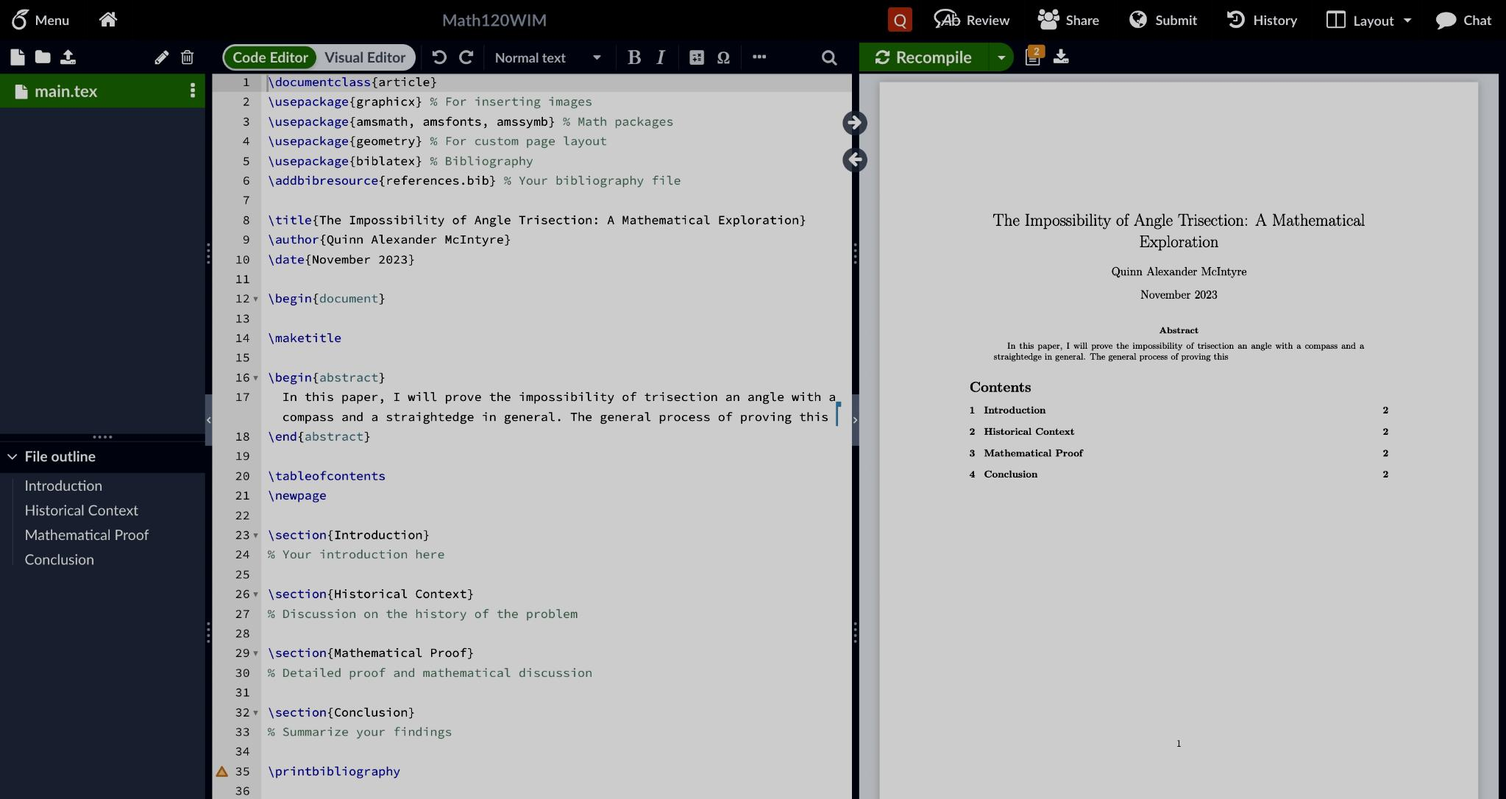webelement: (0, 40, 1505, 798), (261, 68, 852, 799), (879, 81, 1478, 799), (0, 73, 204, 433), (0, 0, 1505, 40), (859, 40, 1498, 73), (0, 472, 198, 570), (0, 73, 204, 107), (0, 440, 204, 470), (992, 211, 1361, 227), (267, 664, 591, 680), (0, 496, 198, 521), (0, 521, 198, 546), (267, 604, 576, 620), (0, 472, 198, 496), (0, 546, 198, 570), (435, 0, 553, 38), (1311, 0, 1420, 38), (920, 0, 1023, 38), (1212, 0, 1312, 38), (858, 42, 988, 71), (1113, 0, 1210, 38), (1024, 0, 1113, 38), (0, 0, 84, 38), (1421, 0, 1505, 38), (267, 722, 451, 739), (429, 132, 606, 149), (503, 171, 680, 188), (1008, 341, 1364, 349), (267, 546, 444, 562), (488, 45, 611, 68), (429, 93, 591, 109), (18, 472, 107, 496), (316, 46, 413, 68), (267, 762, 400, 778), (993, 352, 1228, 361), (224, 46, 316, 68), (267, 466, 385, 483), (17, 546, 99, 570), (267, 171, 377, 188), (84, 0, 132, 38), (562, 112, 672, 128), (267, 73, 370, 89), (429, 152, 532, 168), (1111, 264, 1245, 276), (896, 47, 972, 67), (267, 132, 348, 149), (267, 93, 348, 109), (267, 112, 348, 128), (267, 152, 348, 168), (1139, 233, 1218, 249), (34, 81, 97, 100), (267, 330, 341, 346), (267, 486, 326, 503), (267, 644, 326, 661), (304, 428, 363, 444), (267, 525, 326, 541), (267, 585, 326, 601), (267, 703, 326, 719), (319, 289, 377, 305), (319, 369, 377, 385), (494, 50, 565, 63), (984, 426, 1073, 436), (984, 448, 1082, 457), (1254, 9, 1297, 29), (969, 380, 1030, 394), (967, 9, 1009, 29), (1155, 9, 1197, 29), (1140, 288, 1216, 299), (1353, 9, 1394, 29), (267, 231, 317, 247), (267, 210, 310, 227), (180, 76, 204, 106), (34, 9, 69, 29), (989, 42, 1013, 71), (267, 289, 310, 305), (267, 369, 310, 385), (1066, 9, 1100, 29), (984, 404, 1045, 414), (888, 6, 912, 31), (4, 45, 29, 69), (30, 45, 55, 69), (54, 45, 79, 69), (149, 45, 174, 69), (174, 45, 199, 69), (816, 45, 841, 69), (1020, 45, 1045, 69), (1048, 45, 1073, 69), (267, 250, 304, 266), (427, 45, 451, 69), (454, 45, 478, 69), (622, 45, 646, 69), (649, 45, 673, 69), (685, 45, 709, 69), (711, 45, 735, 69), (747, 45, 771, 69), (842, 110, 866, 134), (842, 147, 866, 171), (1464, 9, 1491, 29), (984, 469, 1037, 479), (267, 428, 296, 444), (1159, 325, 1199, 334), (204, 394, 211, 445), (852, 394, 858, 445), (1028, 44, 1045, 57), (249, 288, 260, 308), (249, 366, 260, 386), (249, 525, 260, 544), (249, 584, 260, 603), (249, 642, 260, 661), (249, 702, 260, 721), (316, 49, 329, 63), (224, 52, 237, 65), (488, 171, 495, 188), (326, 644, 333, 661), (466, 644, 473, 661), (370, 73, 377, 89), (429, 73, 436, 89), (318, 231, 325, 247), (304, 250, 311, 266), (407, 250, 414, 266), (363, 428, 370, 444), (326, 525, 333, 541), (422, 525, 429, 541), (326, 585, 333, 601), (466, 585, 473, 601), (326, 703, 333, 719), (407, 703, 414, 719), (348, 132, 354, 149), (415, 132, 421, 149), (378, 171, 384, 188), (311, 210, 317, 227), (799, 210, 805, 227), (348, 93, 354, 109), (415, 93, 421, 109), (348, 112, 354, 128), (548, 112, 554, 128), (348, 152, 354, 168), (415, 152, 421, 168), (503, 231, 509, 247), (311, 289, 317, 305), (378, 289, 384, 305), (311, 369, 317, 385), (378, 369, 384, 385), (297, 428, 303, 444), (1176, 739, 1182, 749), (1383, 404, 1388, 414), (1383, 426, 1388, 436), (1383, 469, 1388, 479), (1383, 448, 1388, 457), (970, 404, 974, 414), (970, 426, 974, 436), (970, 469, 974, 479), (970, 448, 974, 457)
